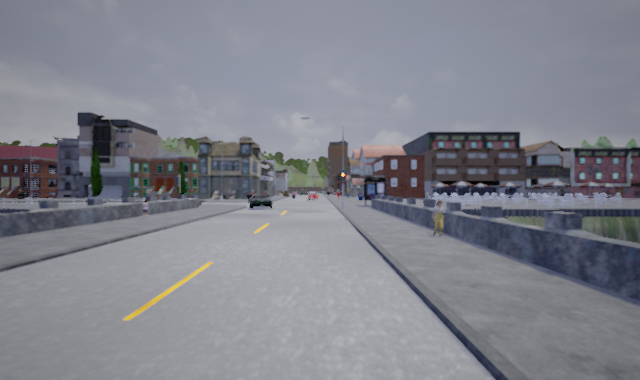pedestrian: (427, 199, 446, 238), (141, 200, 150, 220)
vehicle: (247, 192, 274, 209)
